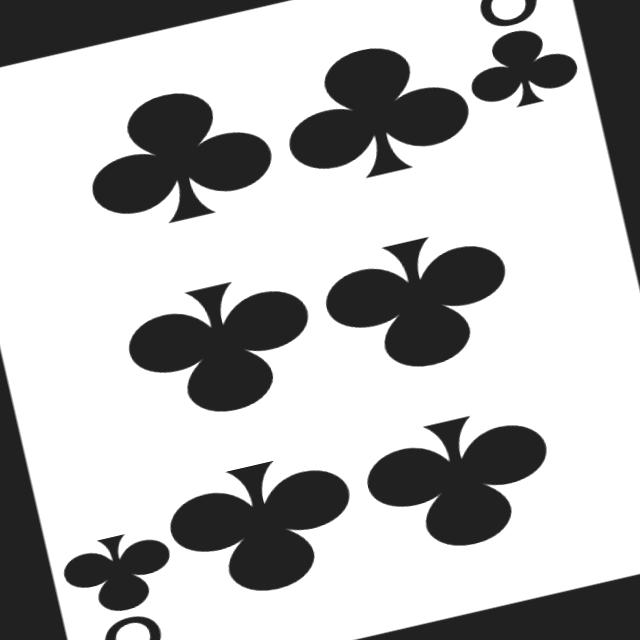Club: (356, 400, 564, 565), (118, 265, 326, 430), (160, 444, 366, 610), (272, 29, 478, 194), (74, 75, 281, 239), (315, 221, 521, 385), (58, 524, 180, 622), (461, 19, 584, 116)
